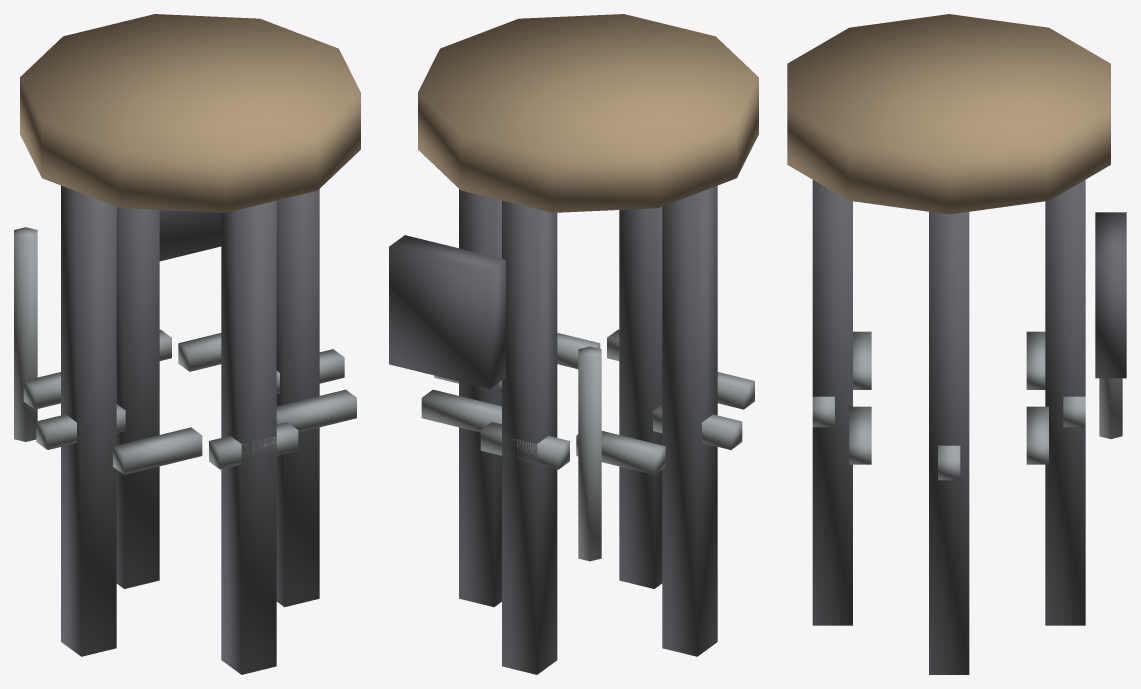
File: counter_stool__service.glb
The picture shows the model from 3 angles, left to right: view 1: azimuth 30°, elevation 25°; view 2: azimuth 150°, elevation 25°; view 3: azimuth 270°, elevation 25°; orthographic projection.
Visible parts, largest first — view 1: world; view 2: world; view 3: world.
Boxes of the visible parts, left/top/right/bottom form: world: left=14, top=14, right=360, bottom=674; world: left=389, top=14, right=758, bottom=674; world: left=787, top=14, right=1126, bottom=674.
Size of the model in its own units: 0.38 by 0.655 by 0.3789.
